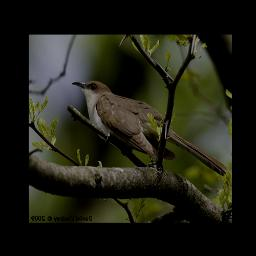Cuckoo: (74, 79, 230, 176)
